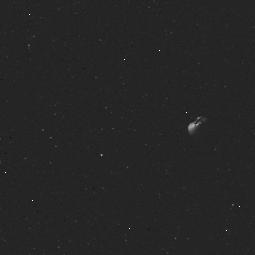debris: (184, 113, 214, 142)
